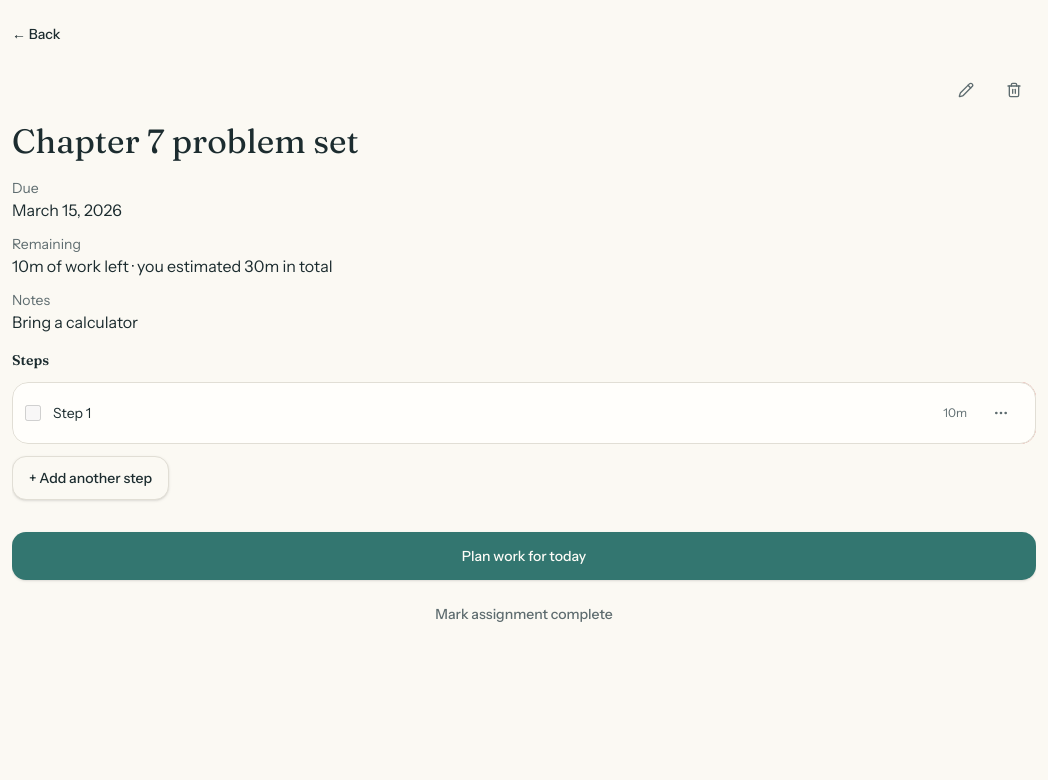
Test: AssignmentDetailPage › offline, completing the steps needs a connection, so the assignment isn't completed on its own (PWA phase 2, 2c)
Expected: the heading "Chapter 7 problem set" is shown, [12,120,359,162]
What coordinates should you click on to do the following:
click the button "Mark assignment complete"
I would click on:
 (524, 614)
Its box is [12,592,1036,636].
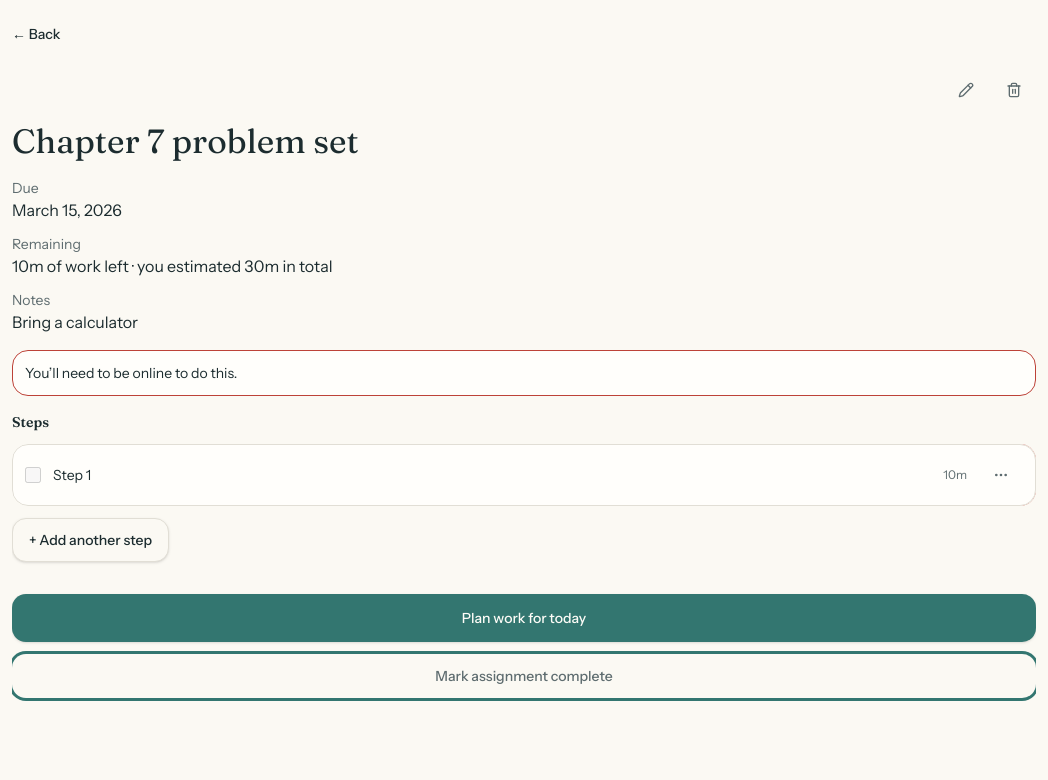
Expected: the text "You’ll need to be online to do this." is shown, [12,350,1036,396]
